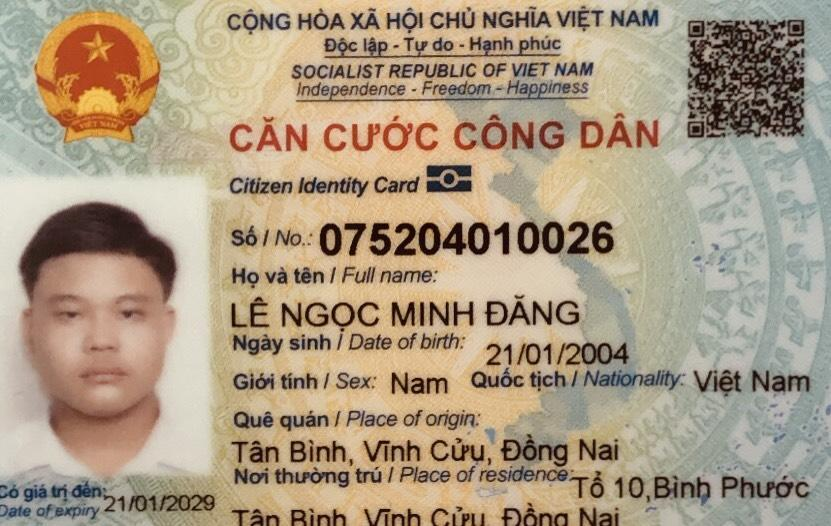ID: (309, 204, 635, 265)
birth: (469, 335, 636, 369)
name: (217, 290, 602, 335)
place: (220, 428, 632, 466)
residence: (228, 495, 624, 526), (566, 468, 823, 506)
